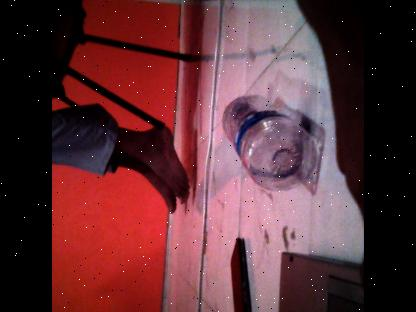Plastic Bottle: (221, 90, 316, 198)
